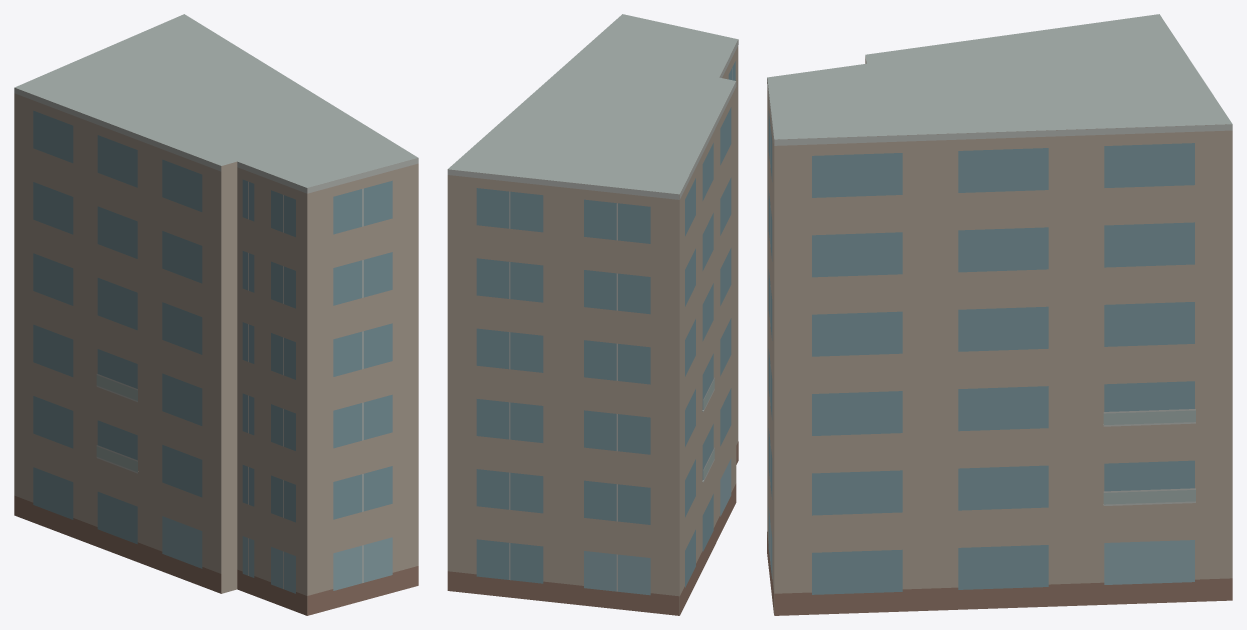
Rendered from survey-upis-32972811.glb.
The picture shows the model from 3 angles, left to right: view 1: azimuth 30°, elevation 25°; view 2: azimuth 150°, elevation 25°; view 3: azimuth 270°, elevation 25°; orthographic projection. The views are drawn at different scales.
Parts seen in each view (by area): view 1: survey-upis-32972811.tmp; view 2: survey-upis-32972811.tmp; view 3: survey-upis-32972811.tmp.
Boxes of the visible parts, x1=… form: survey-upis-32972811.tmp: x1=14, y1=14, x2=418, y2=615; survey-upis-32972811.tmp: x1=447, y1=14, x2=738, y2=615; survey-upis-32972811.tmp: x1=767, y1=14, x2=1232, y2=615.
Bounding box in the file's own units: 10.36 × 18.3 × 16.22.
